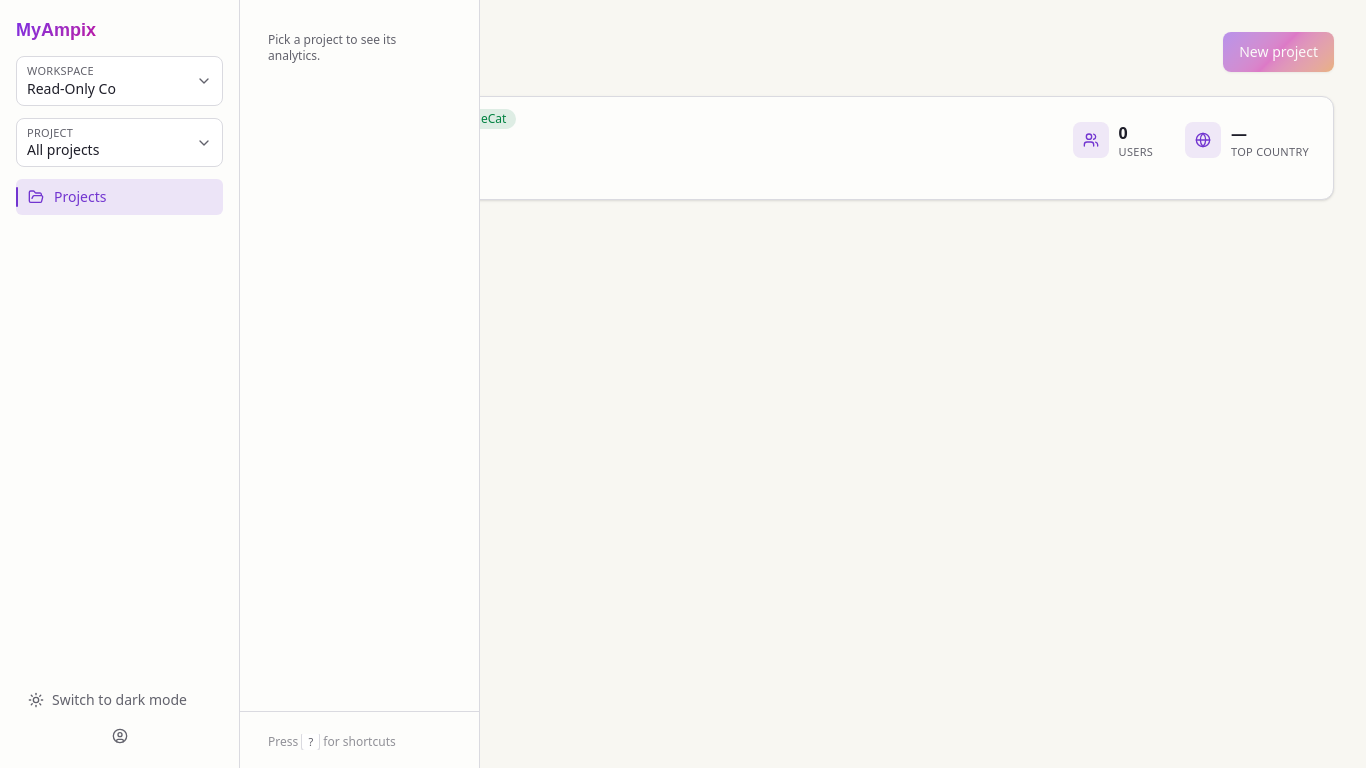
ProjectSwitcher › only lists projects from the selected workspace
Hover over the element with test id "global-sidebar" at [120, 384], box [0,0,240,767]
Expected: the heading "Projects" is shown, [160,36,256,68]
Click the button with aria-label "Switch project" at [120, 143], box [16,118,223,167]
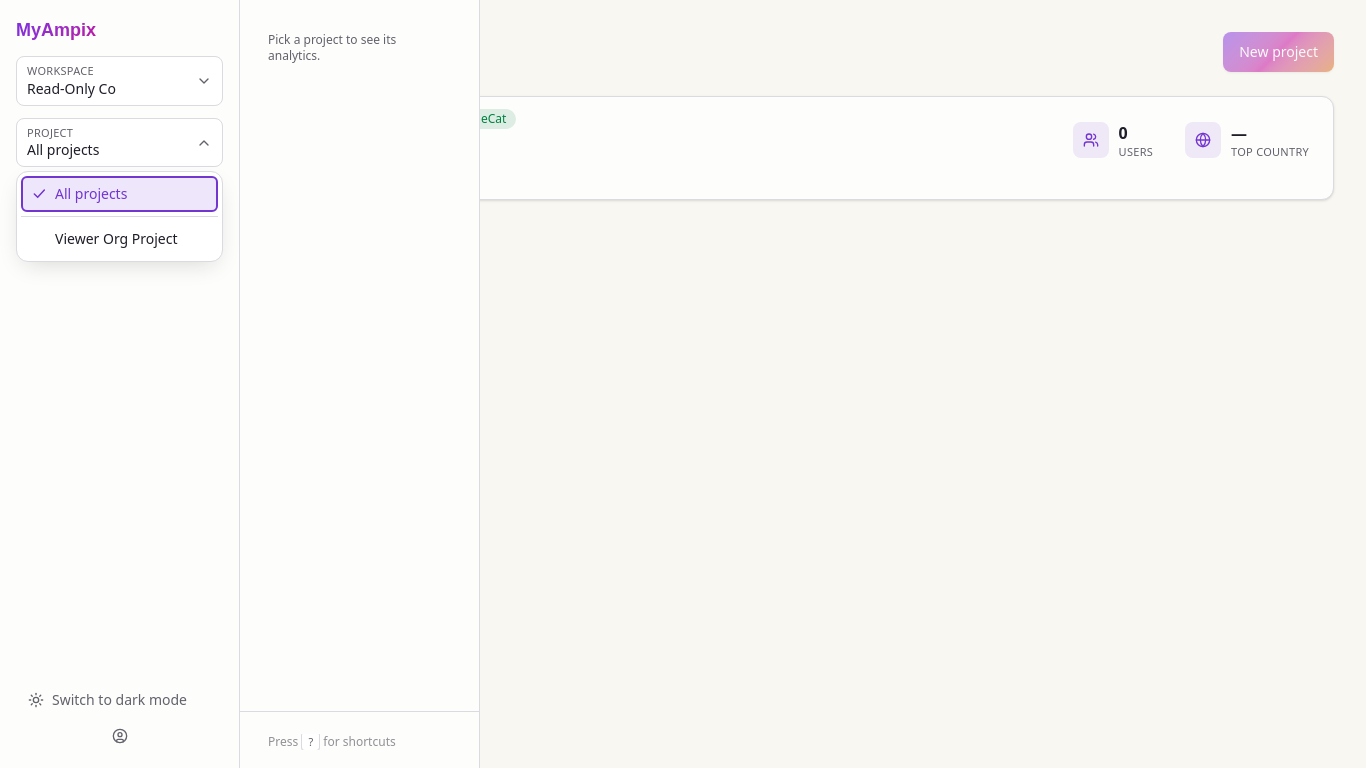
Now the menu item "Viewer Org Project" is shown, box [21,221,218,257]
